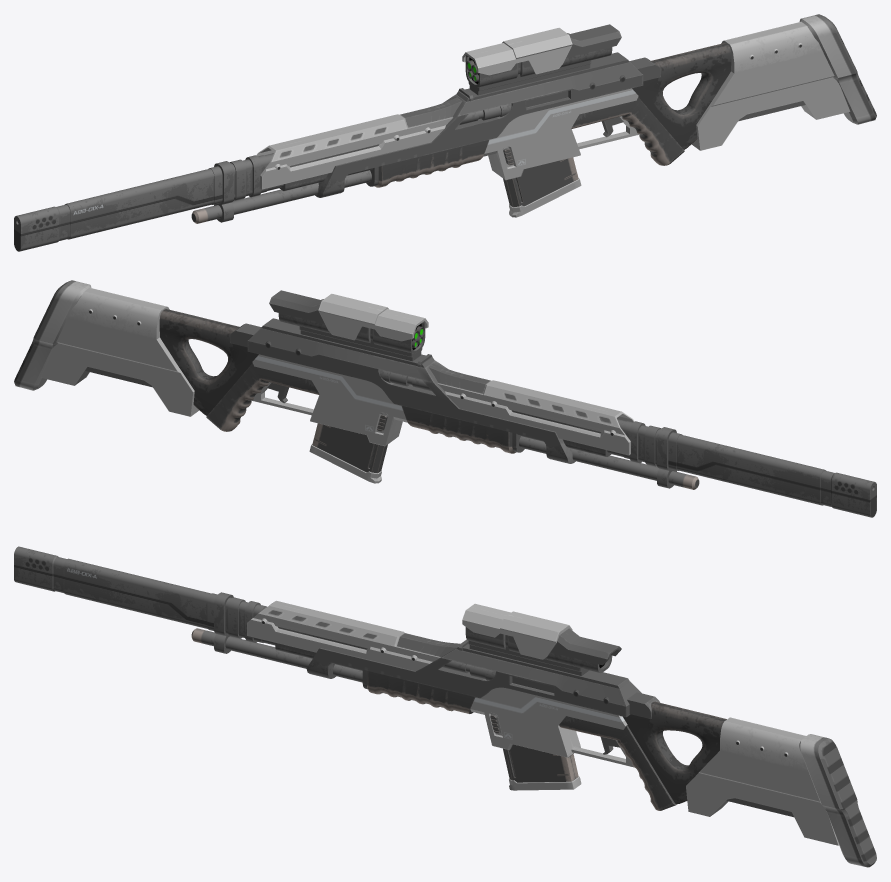
File: gun_sniper.glb
The picture shows the model from 3 angles, top to bottom: view 1: azimuth 30°, elevation 25°; view 2: azimuth 150°, elevation 25°; view 3: azimuth 330°, elevation 25°; orthographic projection.
Parts seen in each view (by area): view 1: Gun_Sniper; view 2: Gun_Sniper; view 3: Gun_Sniper.
Part boxes in pixels (bbox=[...]): Gun_Sniper: bbox=[14, 14, 876, 251]; Gun_Sniper: bbox=[14, 280, 876, 517]; Gun_Sniper: bbox=[14, 546, 876, 867].
Size of the model in its own units: 1.72 by 0.3299 by 0.0592.
Materials: 1 (1 with a texture image).
